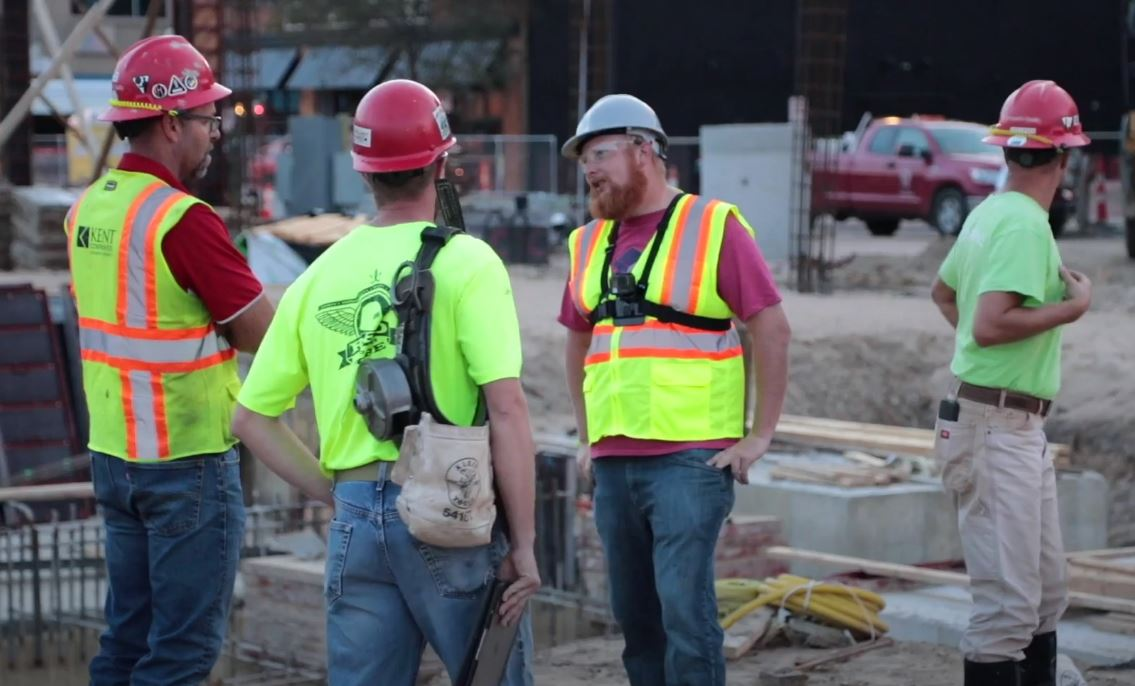Safety Helmet: (70, 16, 249, 201), (973, 47, 1111, 247), (324, 46, 473, 225), (549, 76, 687, 252)
